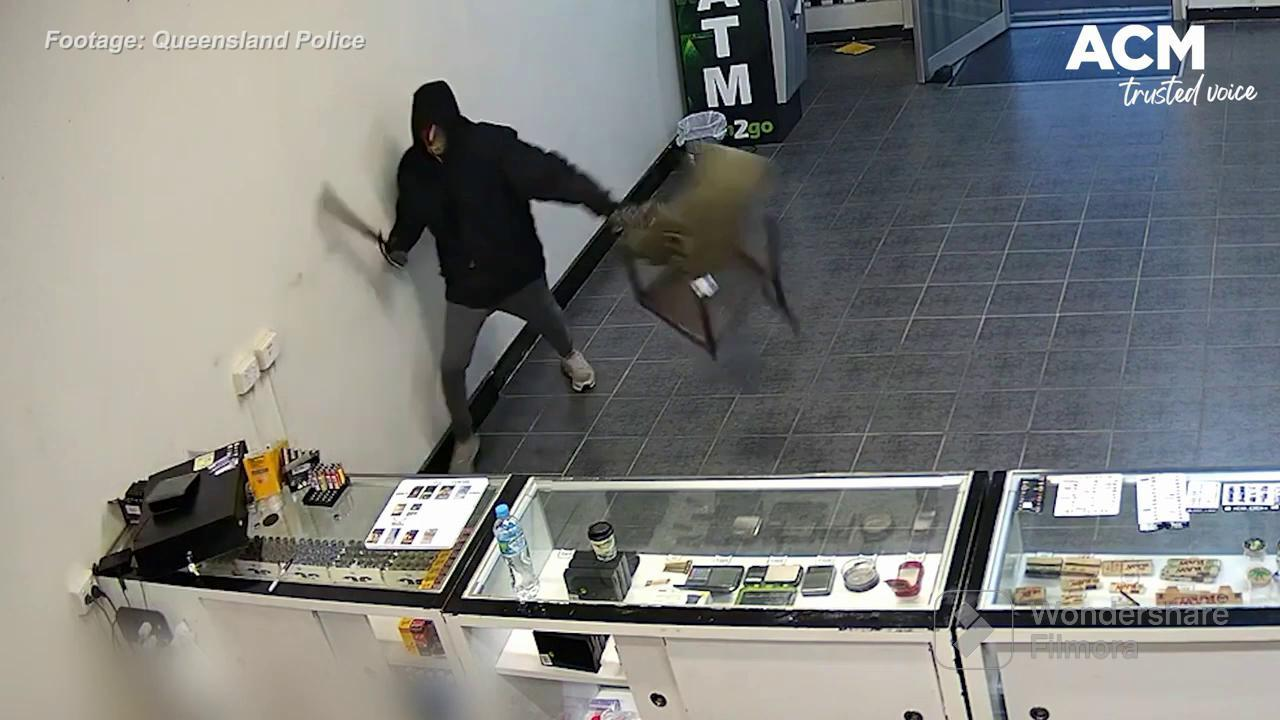melee: (310, 185, 400, 260)
